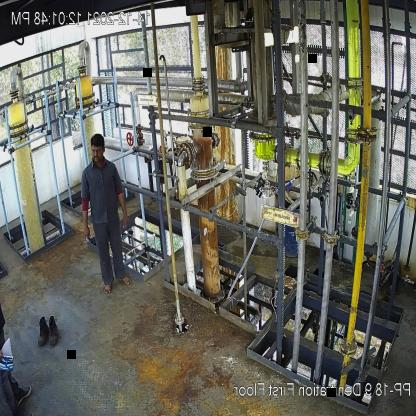no_shoes: (117, 276, 134, 285), (104, 283, 114, 297)
shoes: (45, 315, 60, 347), (36, 317, 48, 345)
